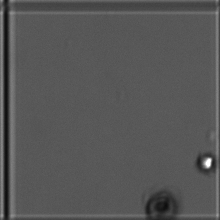Dead Cell: (145, 184, 180, 220)
Living Cell: (193, 152, 216, 176)
